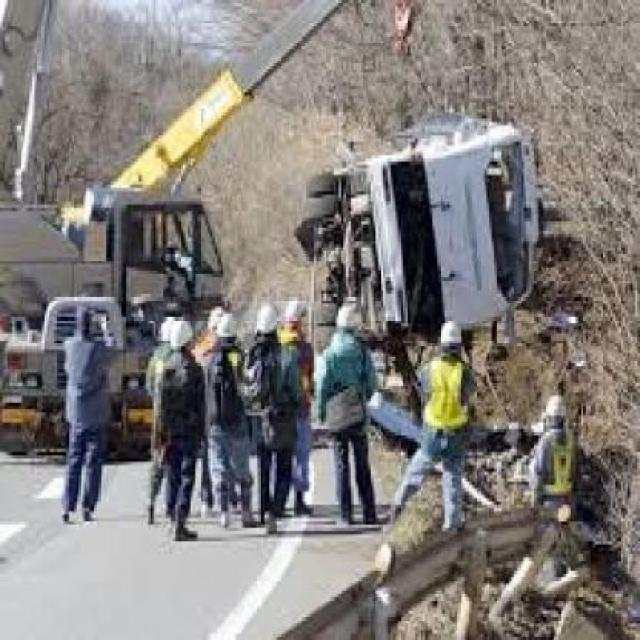accident: (288, 106, 622, 363)
